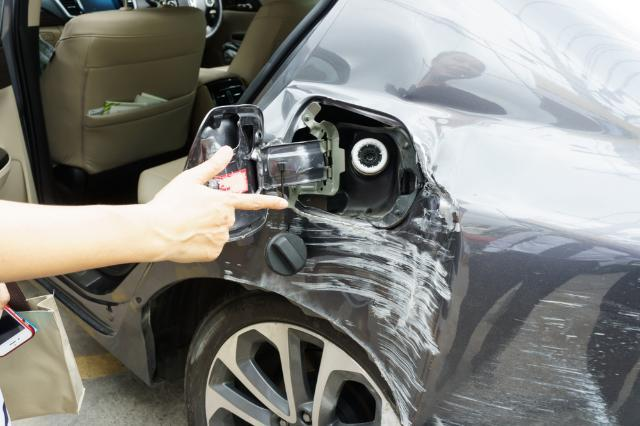dent: (261, 177, 461, 417), (295, 31, 425, 99)
scratch: (429, 274, 640, 426)
